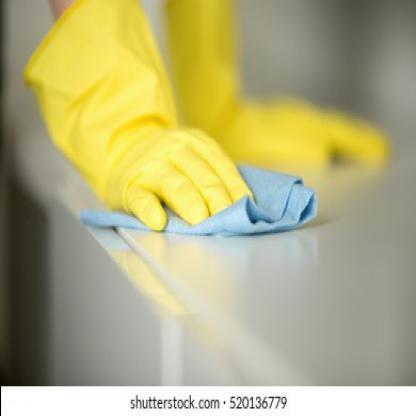Gloves: (23, 1, 254, 235), (165, 1, 388, 180)
